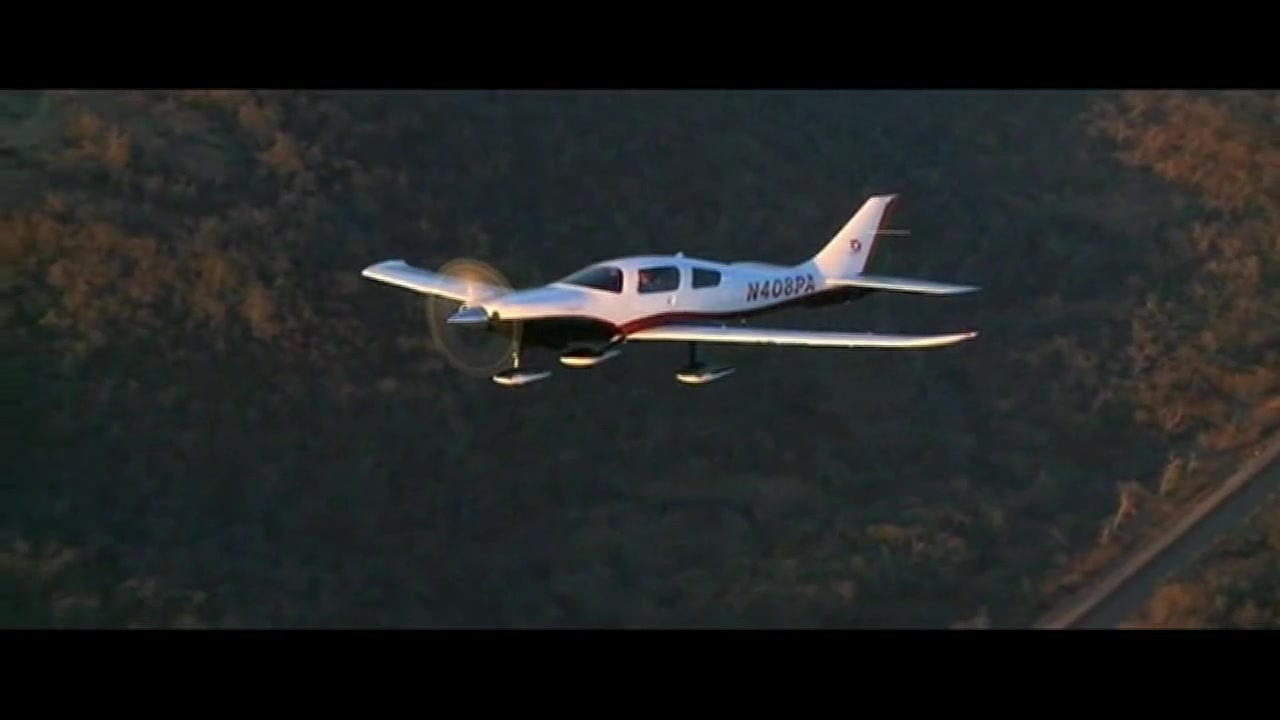aeroplane: (362, 192, 982, 390)
